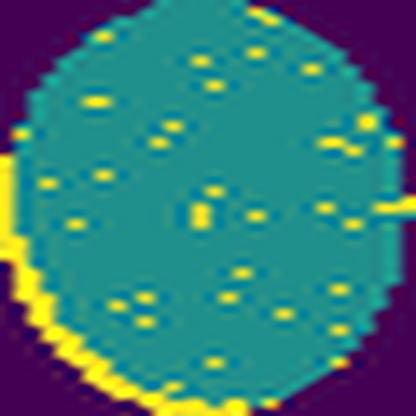Edge-Loc: (0, 151, 251, 416)
